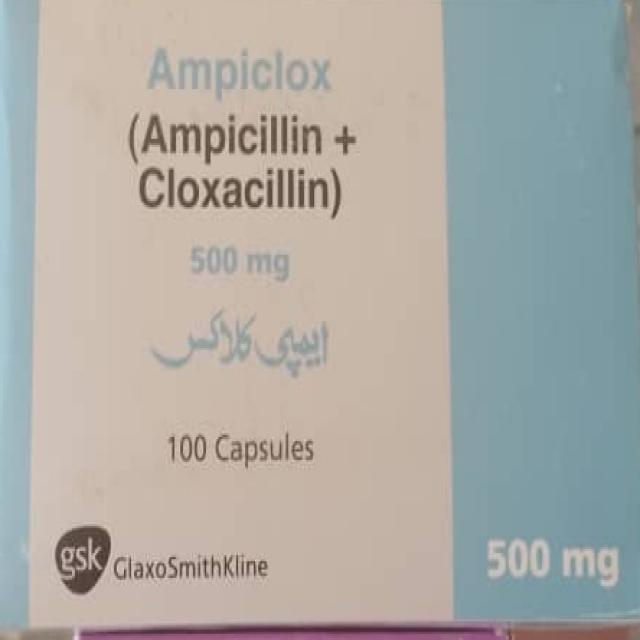drug-name: (148, 306, 334, 380)
